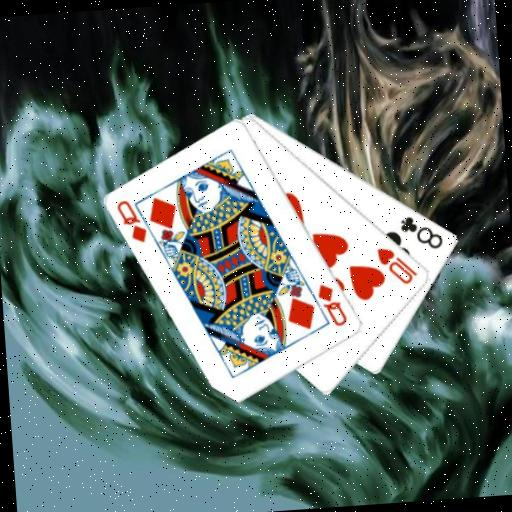10H: (374, 243, 420, 288)
8C: (396, 211, 446, 253)
QD: (314, 279, 350, 330), (114, 195, 150, 246)
